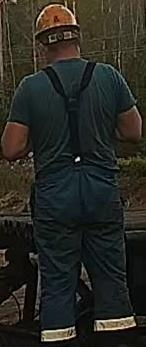helmet: (33, 4, 80, 43)
